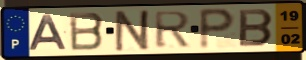A: (27, 13, 70, 52)
B: (237, 8, 276, 48), (68, 11, 106, 52)
N: (113, 8, 154, 53)
P: (198, 7, 238, 51)
R: (152, 10, 193, 50)
